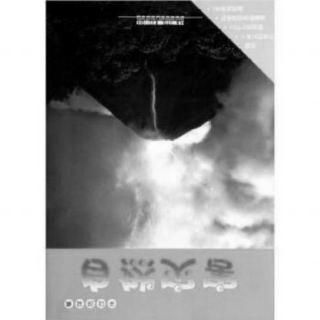Fire: (109, 118, 232, 250)
Smoke: (213, 70, 270, 248)
